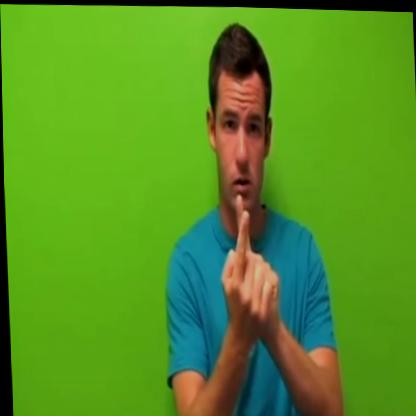NiceToMeetYou: (207, 181, 303, 381)
